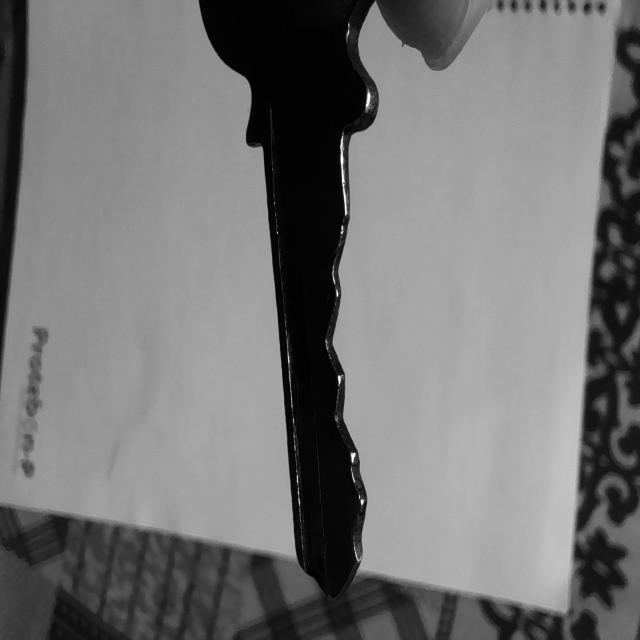KEY: (200, 0, 379, 598)
